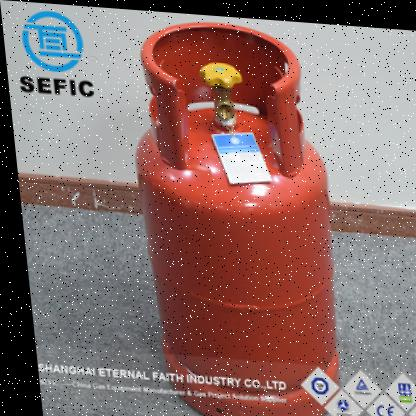gas-tank: (120, 7, 359, 415)
